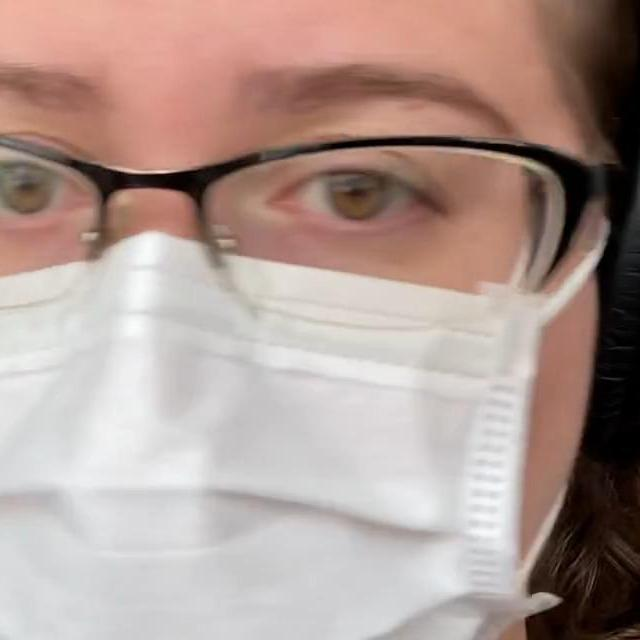Mask: (0, 263, 620, 640)
Person: (0, 0, 640, 640)
